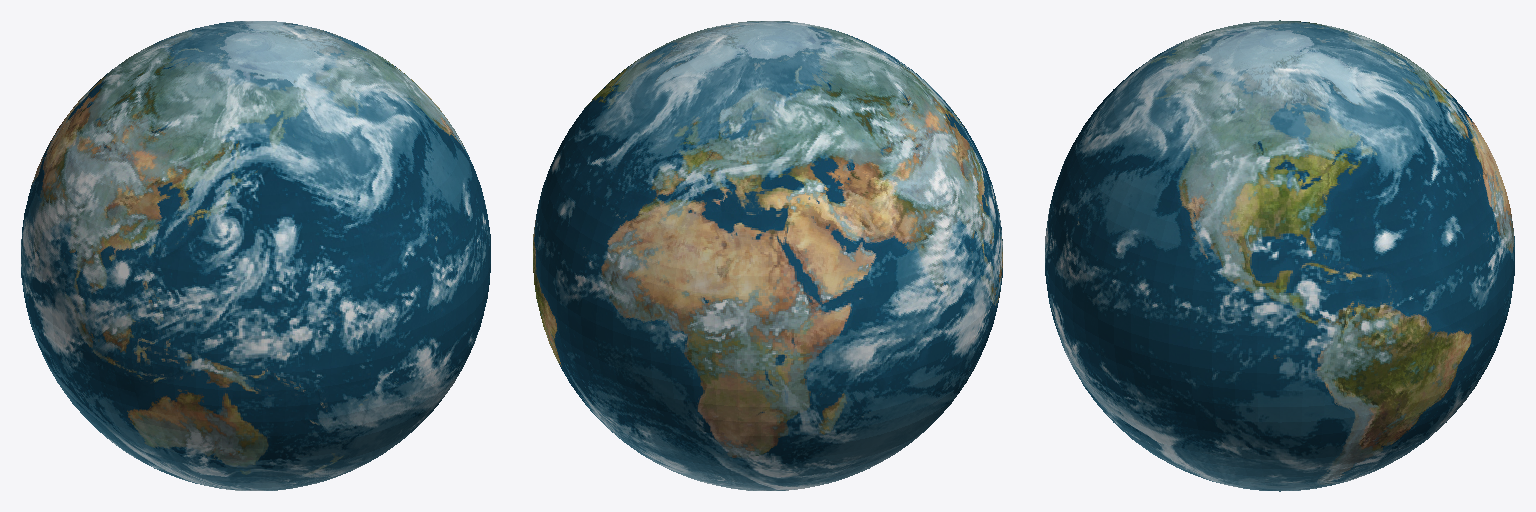
3 views of the same model, side by side, from view 1: azimuth 30°, elevation 25°; view 2: azimuth 150°, elevation 25°; view 3: azimuth 270°, elevation 25° (orthographic).
Parts seen in each view (by area): view 1: Sphere; view 2: Sphere; view 3: Sphere.
Part boxes in pixels (left/top/right/bottom): Sphere: left=21, top=21, right=490, bottom=490; Sphere: left=533, top=21, right=1002, bottom=490; Sphere: left=1045, top=20, right=1514, bottom=491.
Size of the model in its own units: 20 by 20 by 20.
Materials: 1 (1 with a texture image).